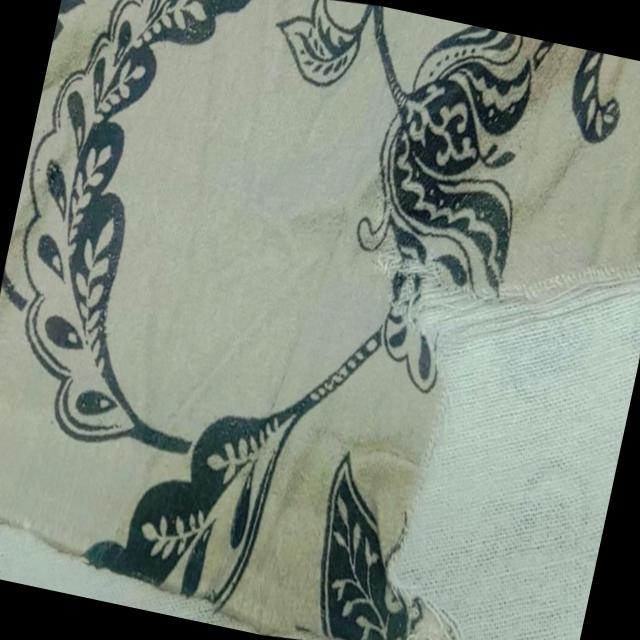cut: (354, 196, 640, 436), (355, 416, 511, 640)
